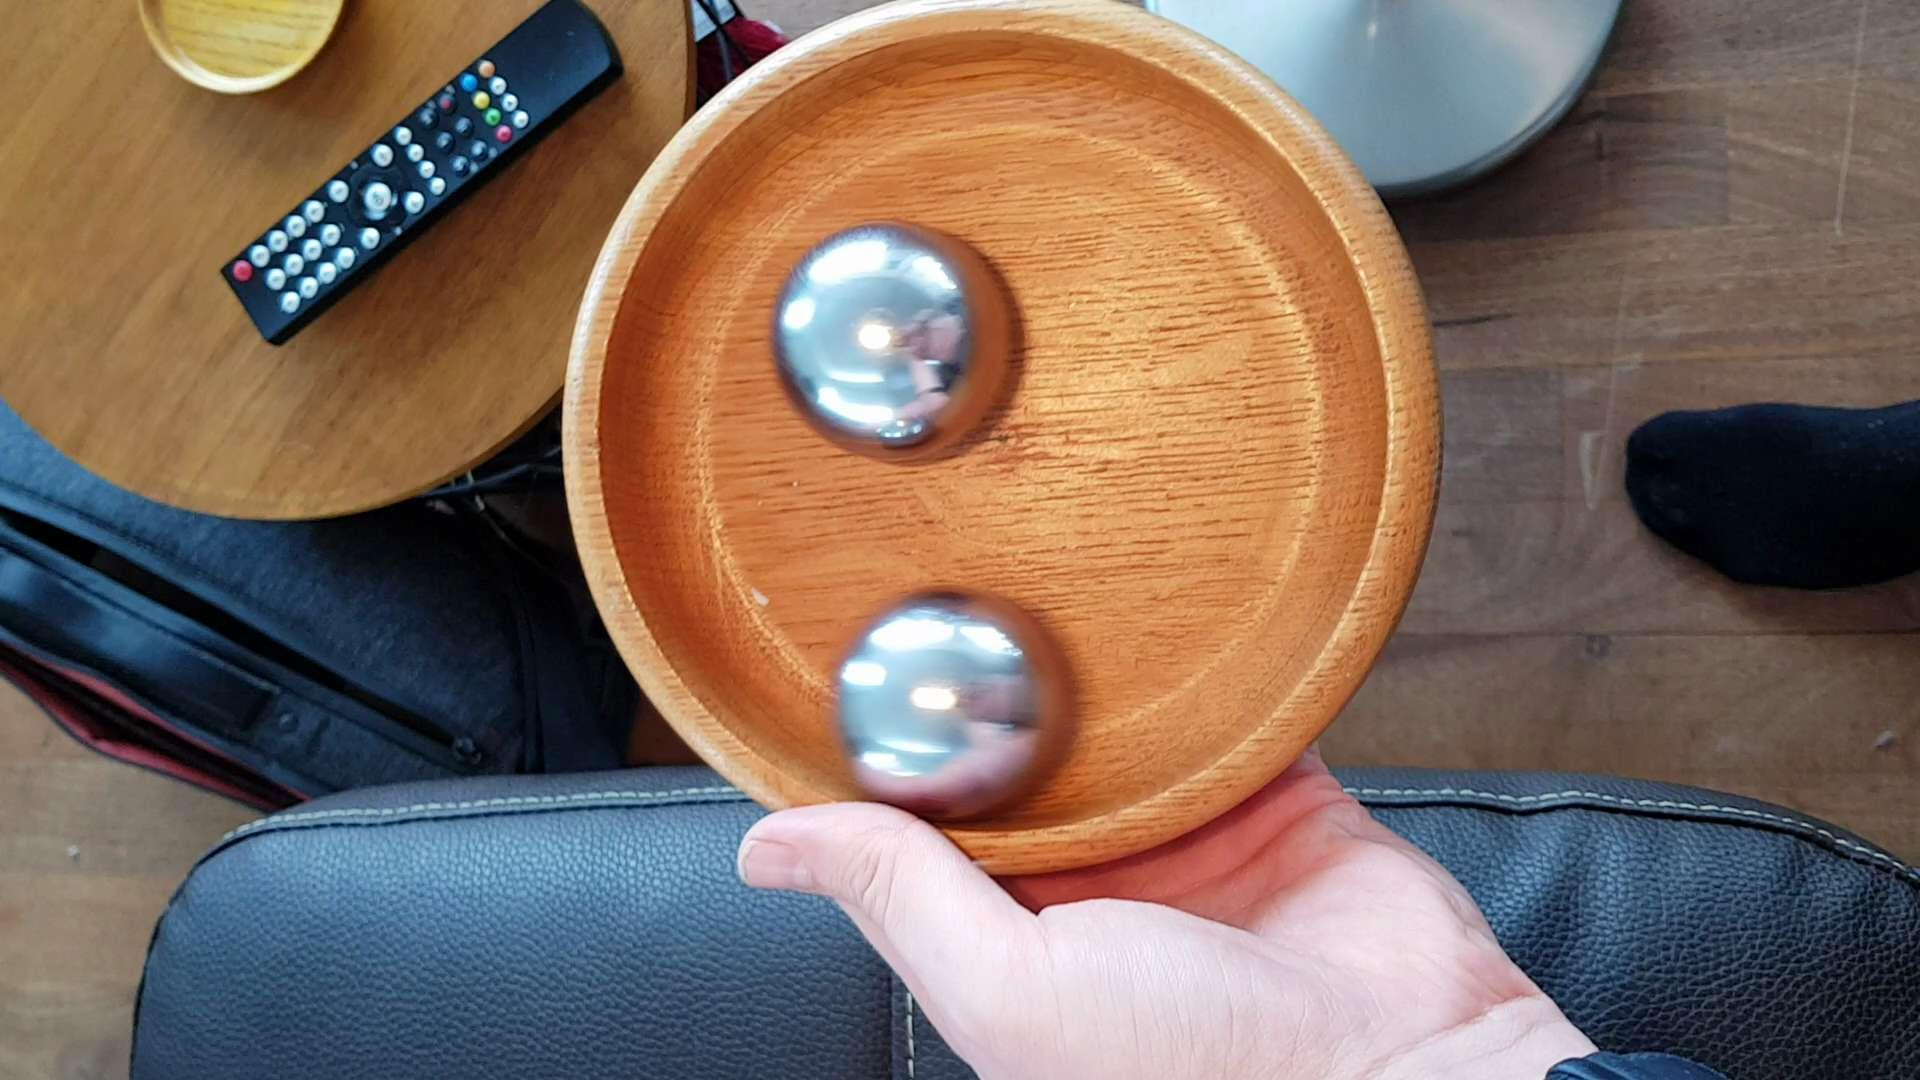sphere: (758, 207, 1036, 480), (828, 571, 1063, 814)
